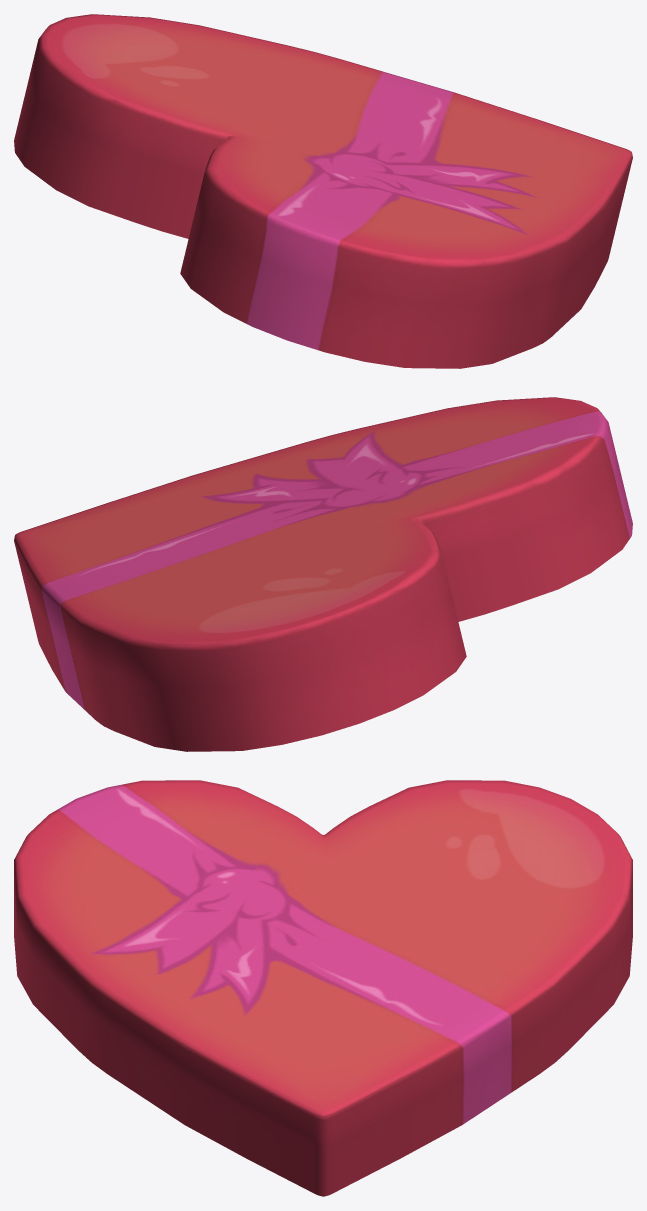
File: heart_box.DAE
3 views of the same model, one above another, from view 1: azimuth 30°, elevation 25°; view 2: azimuth 150°, elevation 25°; view 3: azimuth 270°, elevation 25° (orthographic). The views are drawn at different scales.
Parts seen in each view (by area): view 1: BoxLid_Lid_Exterior; view 2: BoxLid_Lid_Exterior; view 3: BoxLid_Lid_Exterior.
Boxes of the visible parts, x1,y1,x2,y2 form: BoxLid_Lid_Exterior: (14,14,632,368); BoxLid_Lid_Exterior: (14,397,632,751); BoxLid_Lid_Exterior: (14,780,632,1196).
Size of the model in its own units: 145 by 168 by 63.9.
Materials: 1 (1 with a texture image).
